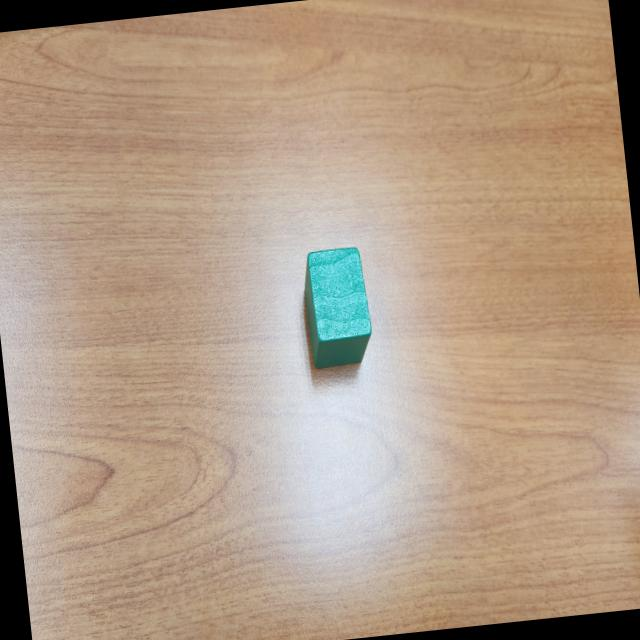green: (299, 244, 375, 370)
